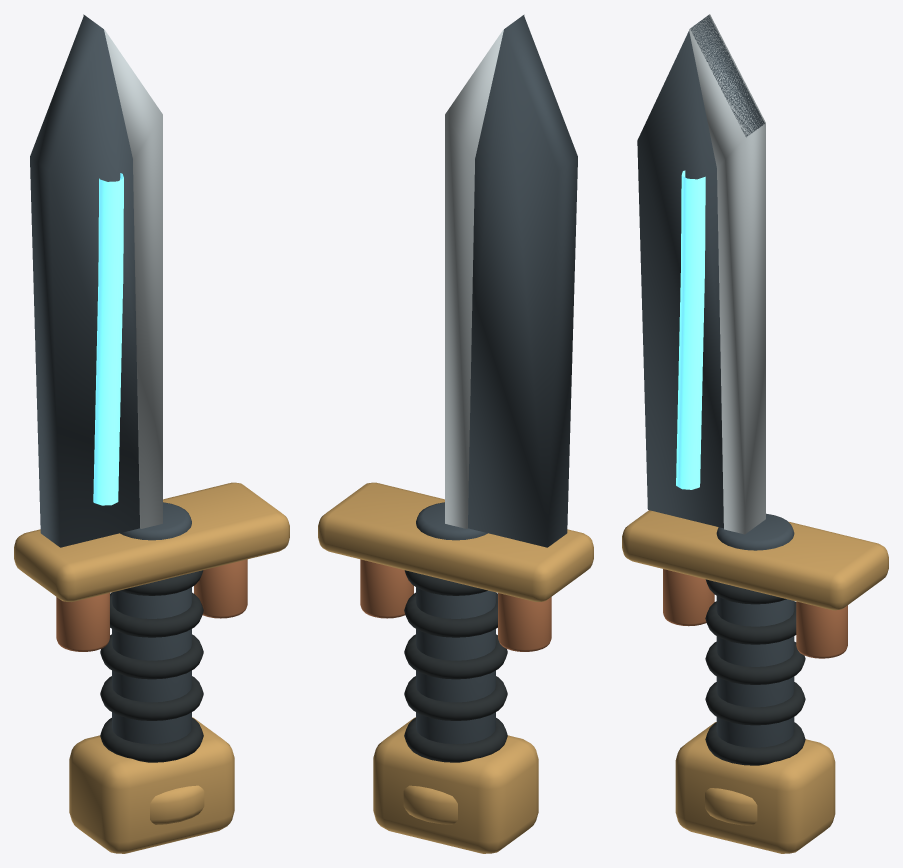
Rendered from shock_blade.t4.glb.
The picture shows the model from 3 angles, left to right: view 1: azimuth 30°, elevation 25°; view 2: azimuth 150°, elevation 25°; view 3: azimuth 330°, elevation 25°; orthographic projection. The views are drawn at different scales.
Visible parts, largest first — view 1: weapon_right__forged_bluelead_steel__protected, weapon_right__worn_warm_brass__protected, weapon_right__honed_steel_edge__protected, weapon_right__charcoal_rubber__protected, weapon_right__charged_coil__protected, weapon_right__burnished_copper__protected; view 2: weapon_right__forged_bluelead_steel__protected, weapon_right__worn_warm_brass__protected, weapon_right__honed_steel_edge__protected, weapon_right__charcoal_rubber__protected, weapon_right__burnished_copper__protected; view 3: weapon_right__forged_bluelead_steel__protected, weapon_right__worn_warm_brass__protected, weapon_right__honed_steel_edge__protected, weapon_right__charcoal_rubber__protected, weapon_right__charged_coil__protected, weapon_right__burnished_copper__protected.
Boxes of the visible parts, x1,y1,x2,y2 form: weapon_right__forged_bluelead_steel__protected: (30,15,191,744); weapon_right__worn_warm_brass__protected: (14,482,289,853); weapon_right__honed_steel_edge__protected: (83,14,162,528); weapon_right__charcoal_rubber__protected: (100,570,203,762); weapon_right__charged_coil__protected: (93,173,123,505); weapon_right__burnished_copper__protected: (56,559,247,651); weapon_right__forged_bluelead_steel__protected: (416,15,577,744); weapon_right__worn_warm_brass__protected: (318,482,593,853); weapon_right__honed_steel_edge__protected: (445,14,524,528); weapon_right__charcoal_rubber__protected: (404,570,507,762); weapon_right__burnished_copper__protected: (360,559,551,651); weapon_right__forged_bluelead_steel__protected: (637,15,794,747); weapon_right__worn_warm_brass__protected: (622,510,888,853); weapon_right__honed_steel_edge__protected: (689,14,765,534); weapon_right__charcoal_rubber__protected: (705,579,805,765); weapon_right__charged_coil__protected: (676,170,705,489); weapon_right__burnished_copper__protected: (663,569,847,658).
Bounding box in the file's own units: 0.3392 × 1.15 × 0.1505.
